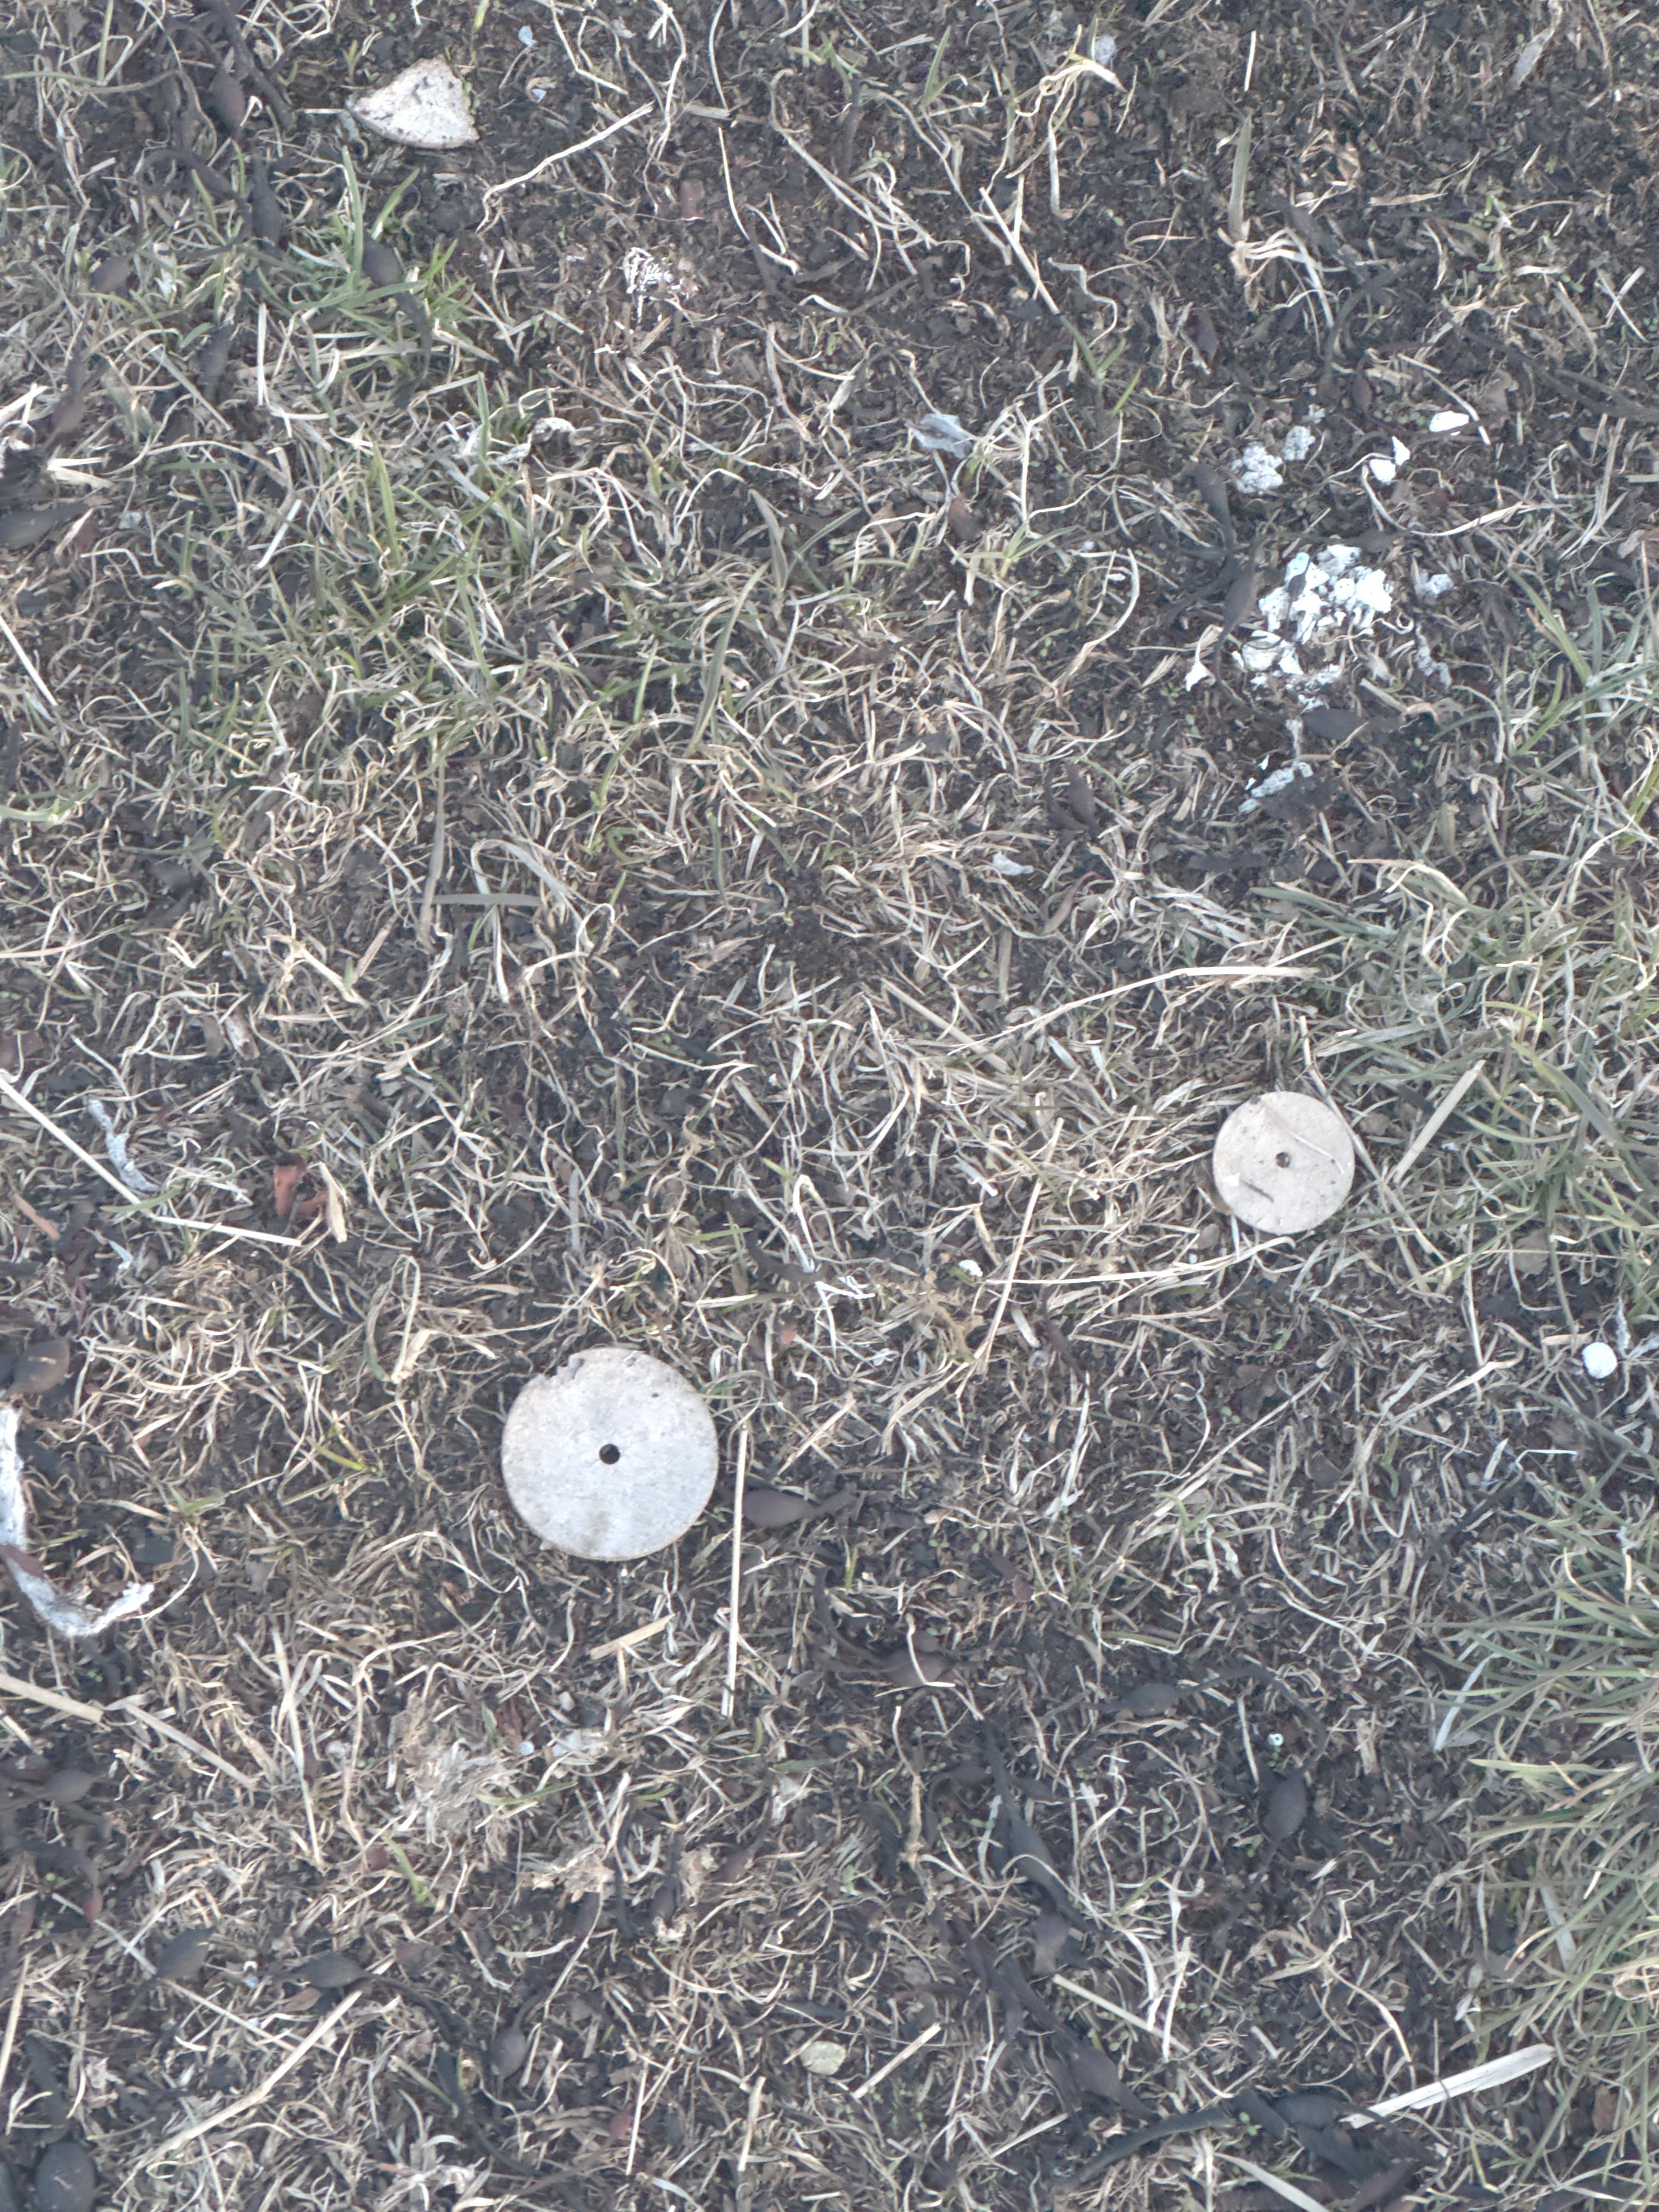trash: (501, 1348, 717, 1560), (1214, 1093, 1357, 1235)
